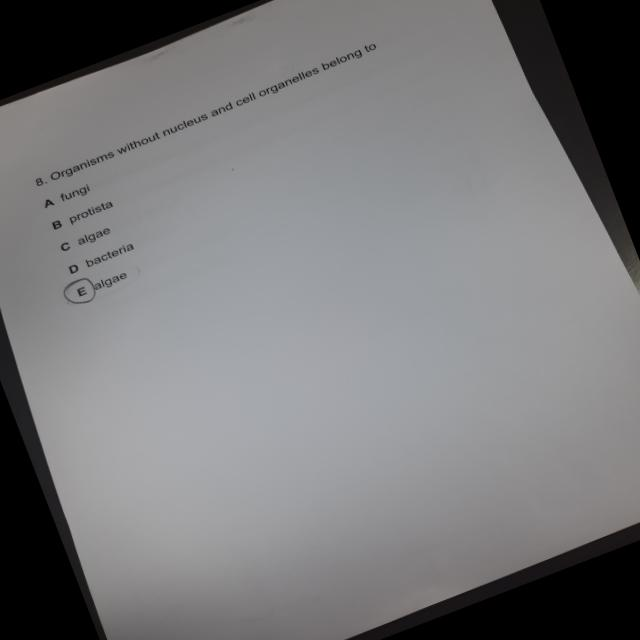E: (60, 274, 103, 313)
